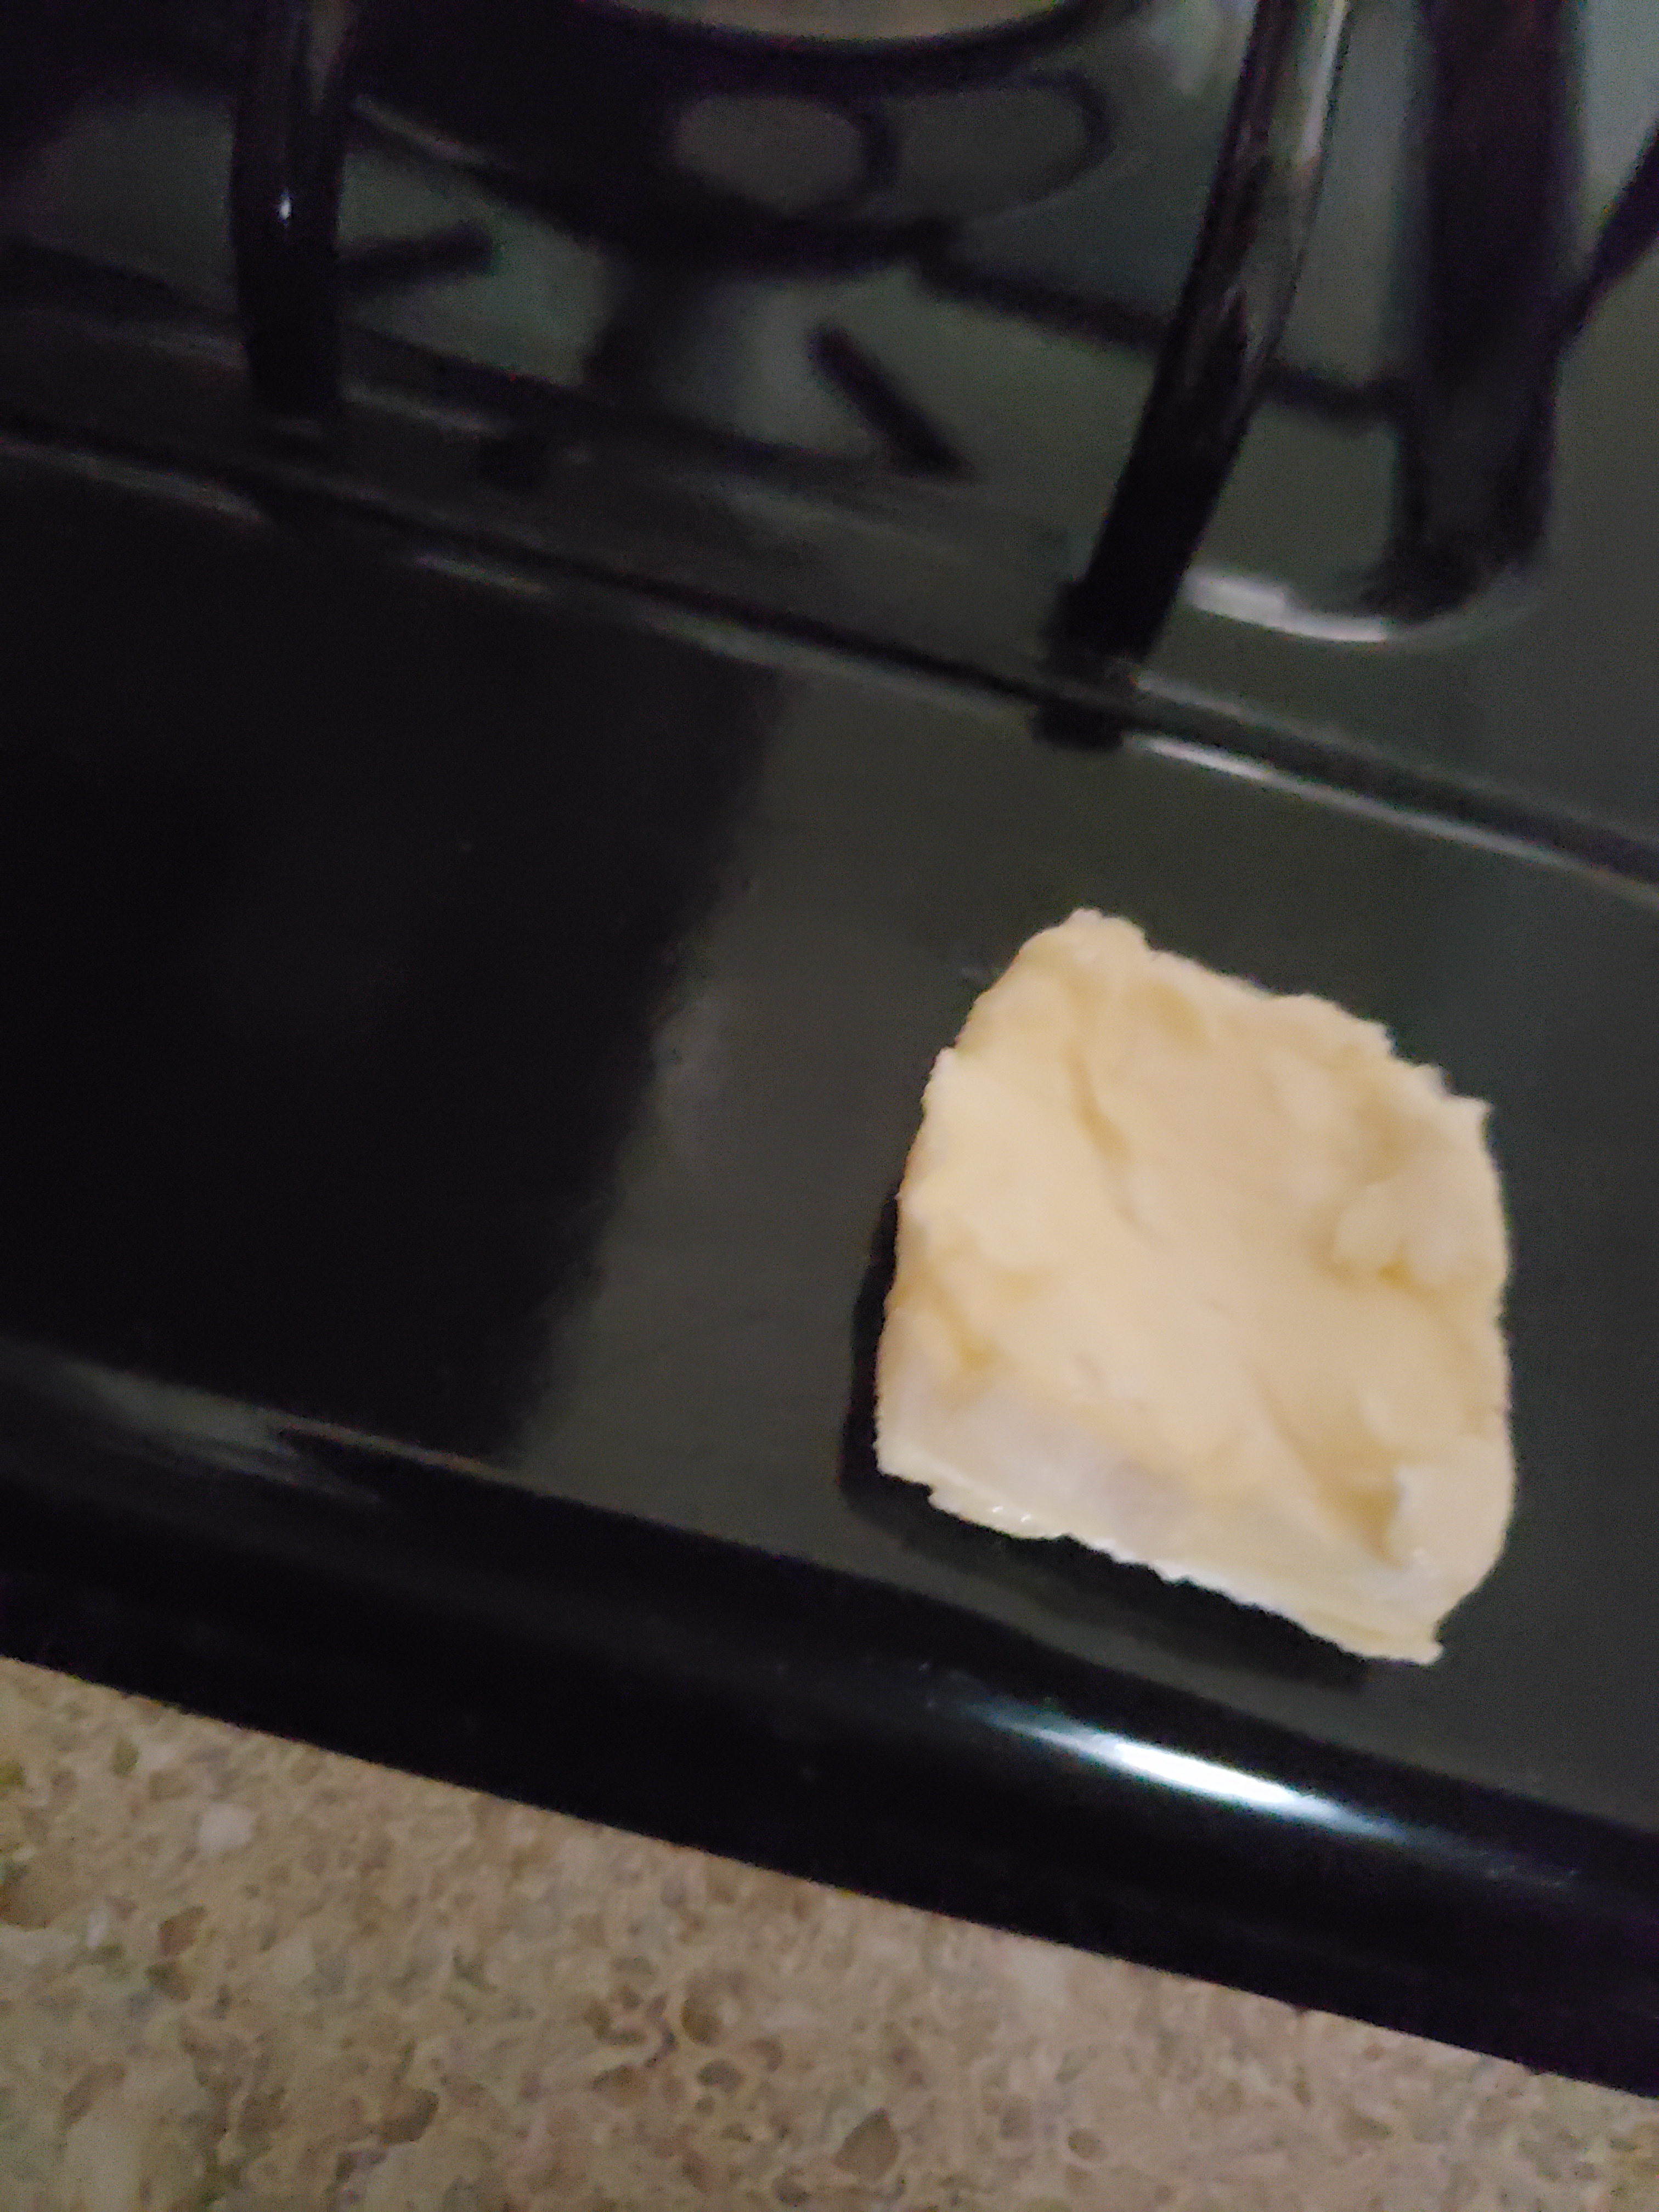Butter: (880, 918, 1516, 1662)
